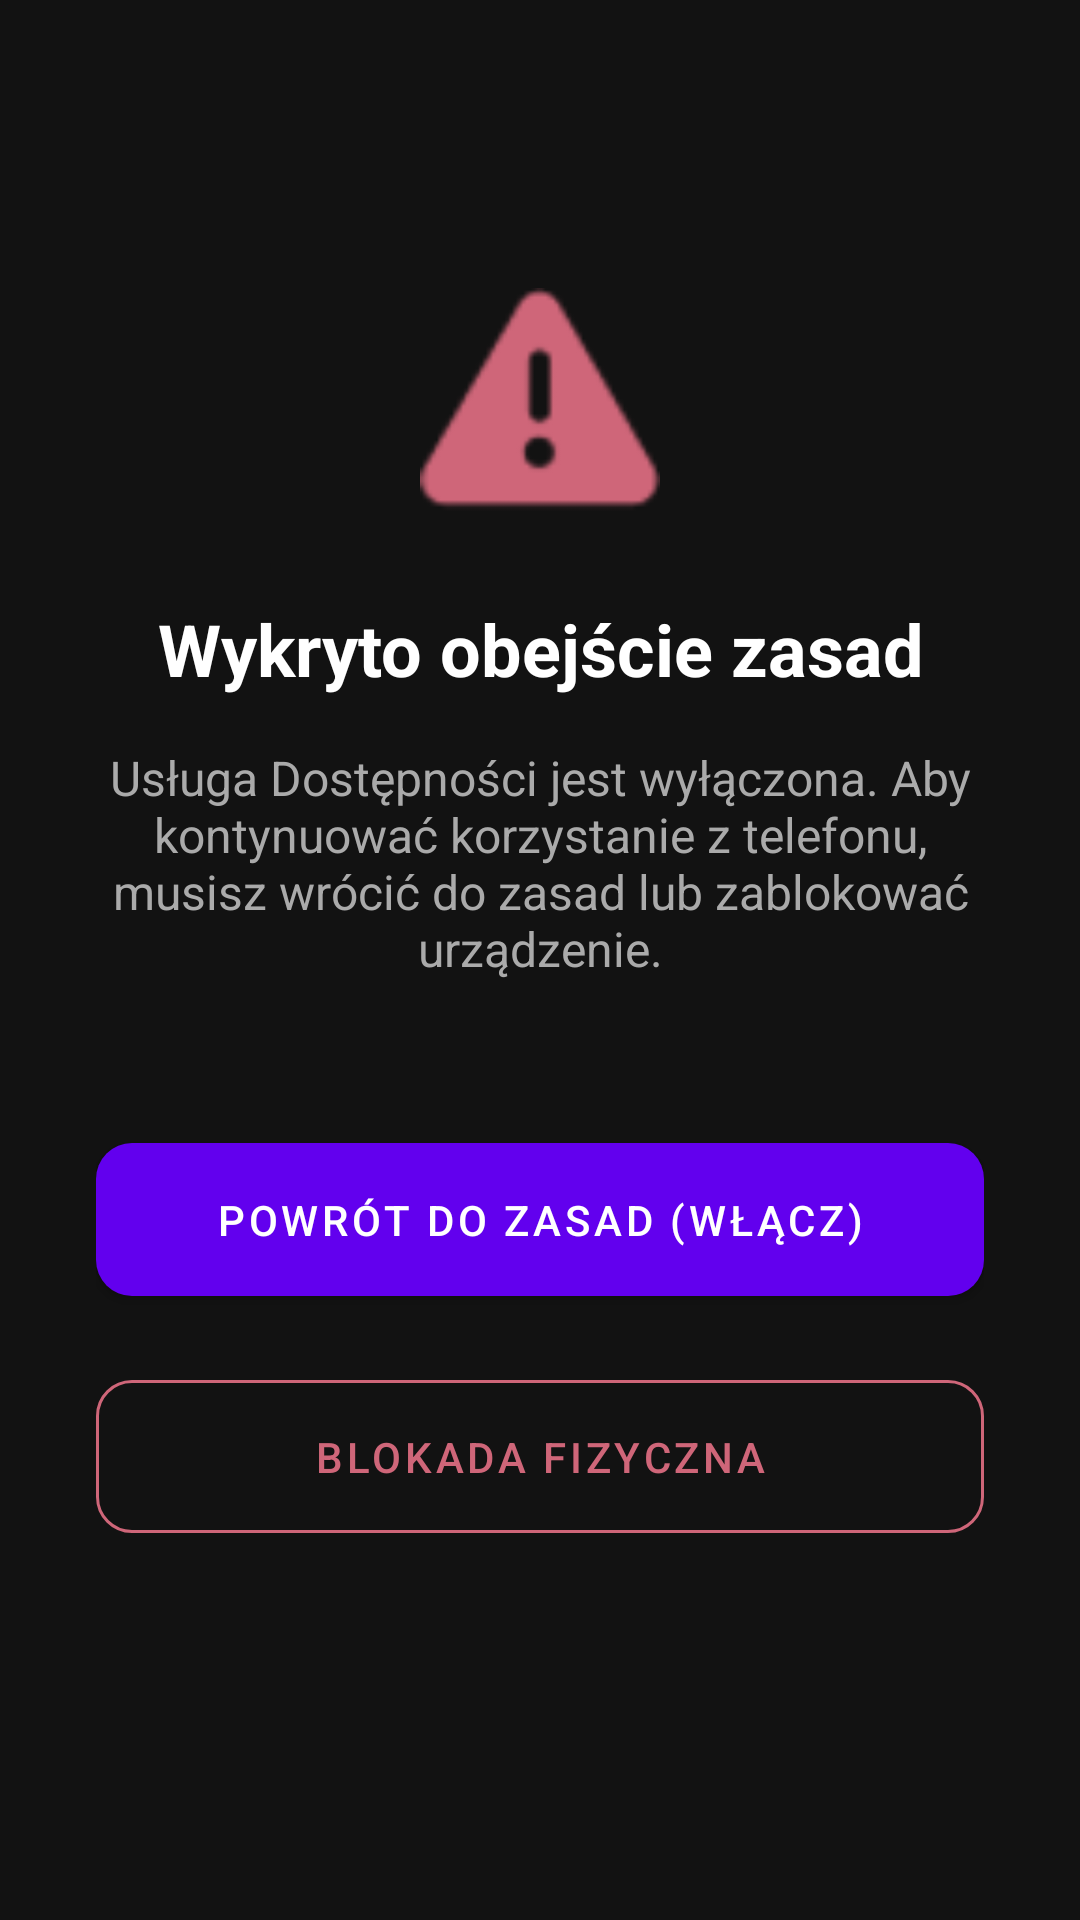

Where to tap for icons on this 1080x1920 app screen, as (x=x, y=y):
alert: (x=540, y=397)
